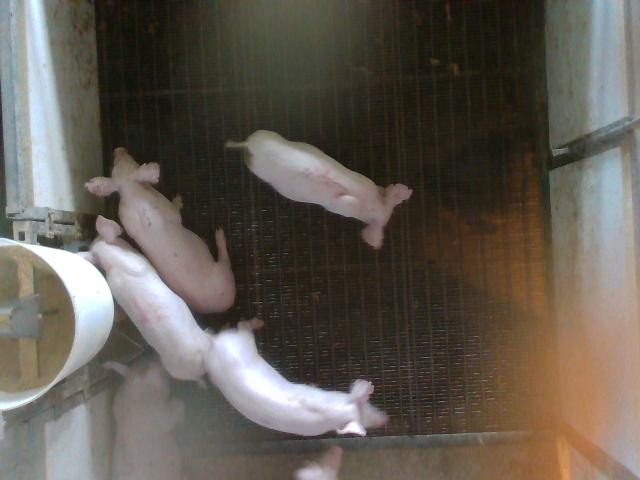pig-4: (80, 218, 211, 380)
pig-5: (225, 130, 412, 248)
